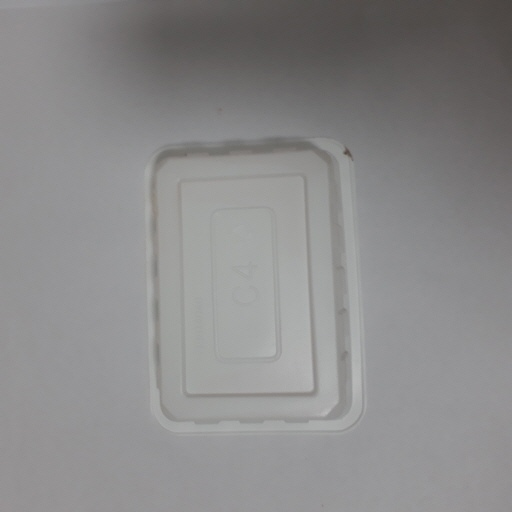Plastic_4: (139, 136, 366, 432)
